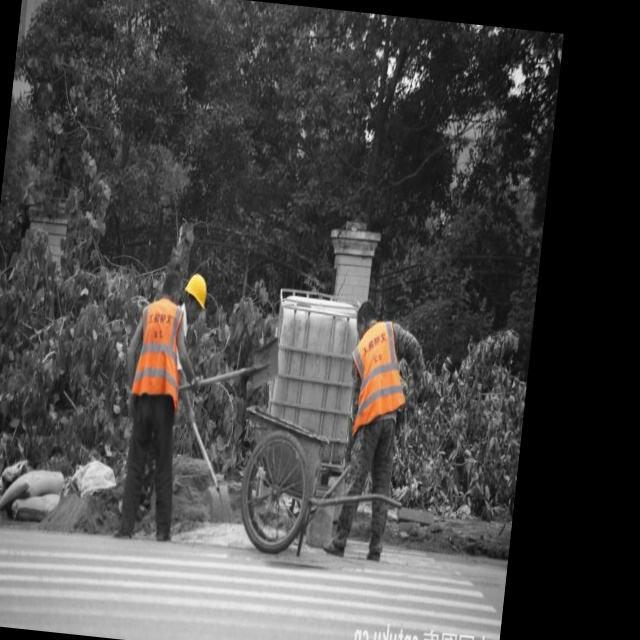Con_Casco: (183, 270, 209, 325)
Con_Chaleco: (347, 322, 407, 430), (129, 297, 186, 403)
Sin_Casco_Mascarrilla: (354, 299, 378, 341)
